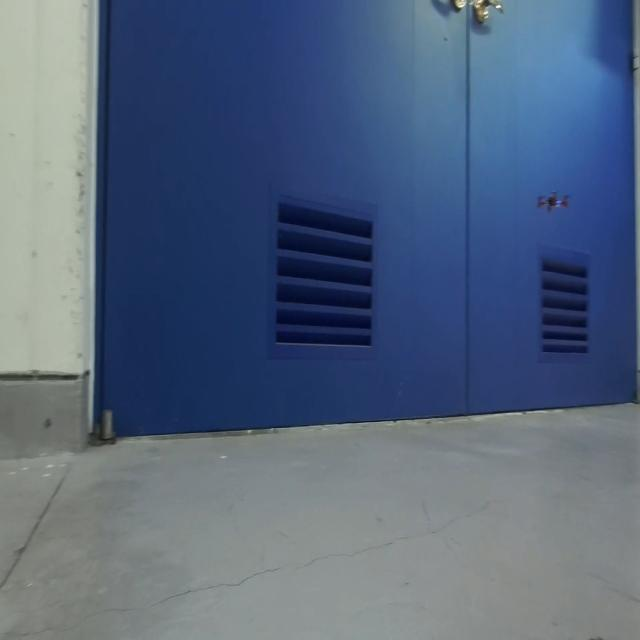crazyflie: (534, 182, 571, 222)
